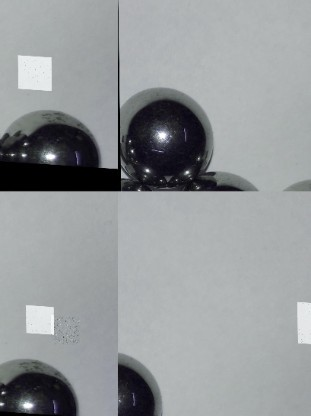ironball: (116, 81, 212, 186), (0, 106, 106, 169), (0, 354, 83, 414), (116, 348, 169, 414)
